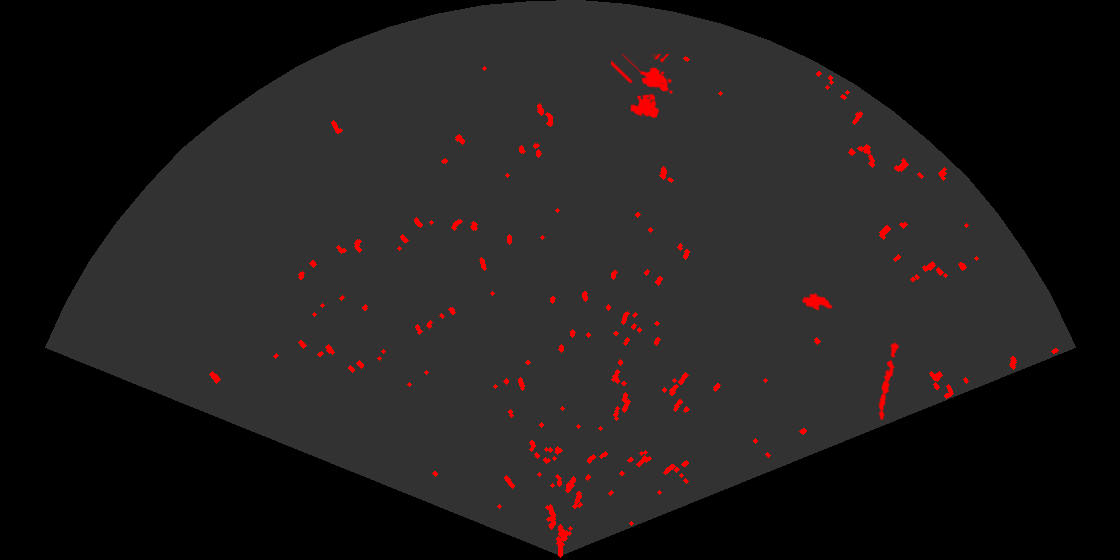AUV: (800, 292, 834, 312)
cage: (611, 54, 674, 120)
chain: (877, 338, 901, 422)
